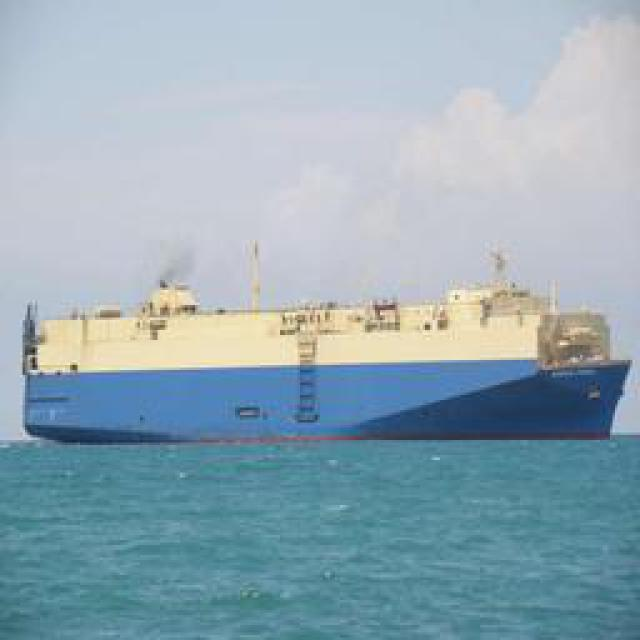Ship: (30, 291, 635, 451)
